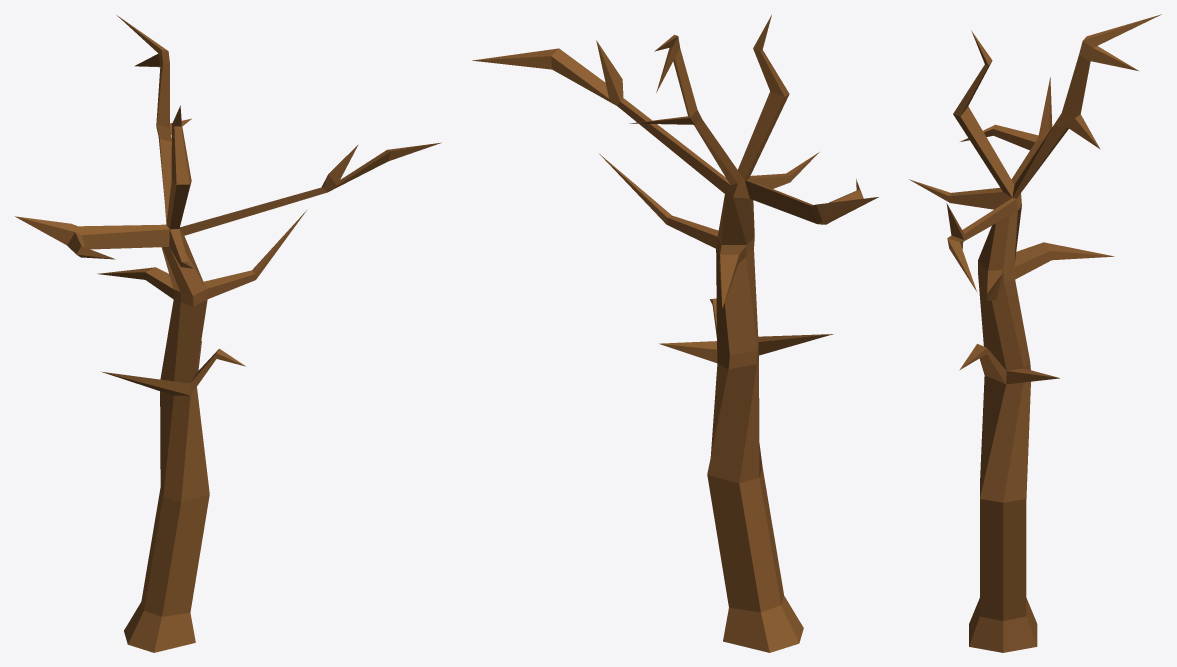
Rendered from Tree1.fbx.
The picture shows the model from 3 angles, left to right: view 1: azimuth 30°, elevation 25°; view 2: azimuth 150°, elevation 25°; view 3: azimuth 270°, elevation 25°; orthographic projection. The views are drawn at different scales.
Visible parts, largest first — view 1: Tree1; view 2: Tree1; view 3: Tree1.
Part boxes in pixels (left/top/right/bottom): Tree1: left=15, top=15, right=441, bottom=652; Tree1: left=472, top=15, right=878, bottom=652; Tree1: left=909, top=14, right=1161, bottom=652.
Bounding box in the file's own units: 260 × 354 × 129.
